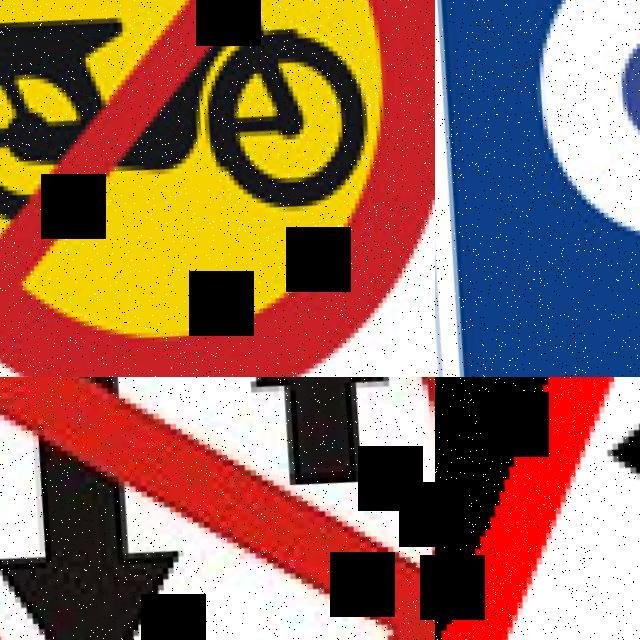43: (0, 0, 435, 377)
86: (435, 0, 640, 377)
One-way traffic: (0, 377, 435, 640), (0, 377, 435, 640)
Right curve: (435, 377, 640, 640)
